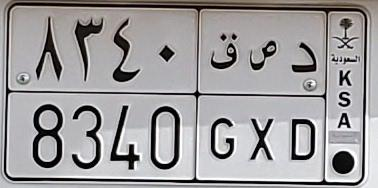0: (149, 44, 182, 171)
3: (70, 17, 105, 170)
4: (109, 16, 142, 171)
8: (30, 14, 64, 170)
D: (290, 41, 318, 162)
G: (209, 32, 240, 160)
X: (248, 39, 278, 161)
